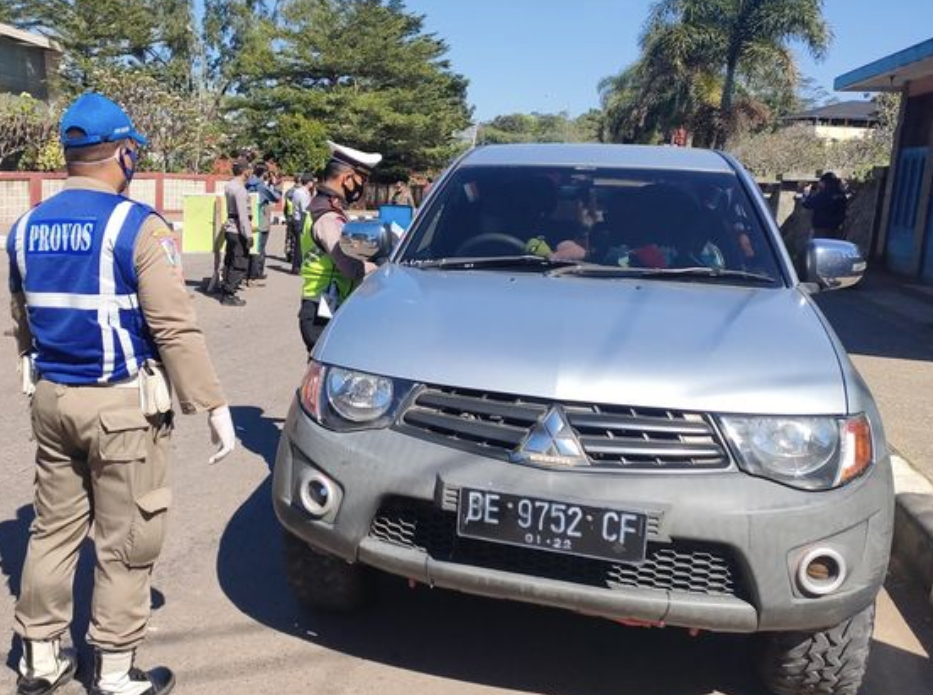mobil: (297, 126, 892, 655)
plat: (449, 480, 663, 574)
